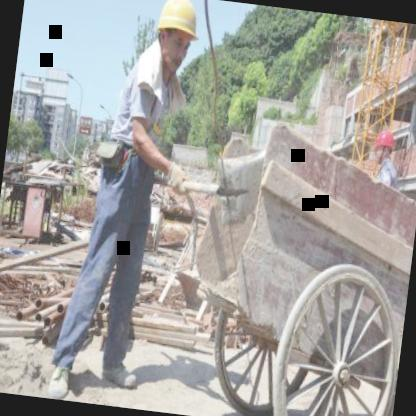helmet: (148, 0, 204, 79), (368, 123, 398, 171)
